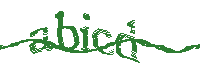a: (29, 26, 52, 53)
b: (55, 10, 78, 52)
c: (92, 27, 114, 58)
d: (115, 18, 140, 64)
i: (81, 12, 90, 56)
